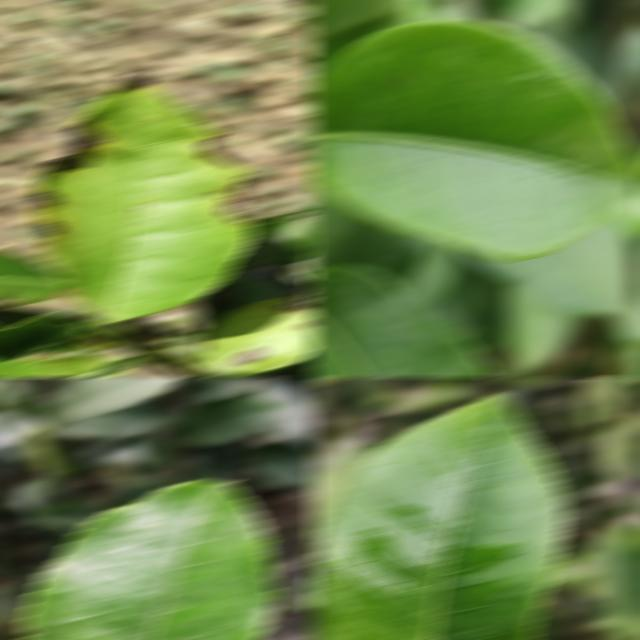Leaf: (309, 21, 639, 258), (313, 394, 567, 640), (29, 72, 253, 326), (19, 481, 279, 640), (458, 219, 640, 338), (309, 266, 496, 376), (194, 213, 315, 329), (196, 286, 317, 376), (45, 378, 187, 427), (309, 0, 409, 61), (589, 525, 640, 640), (178, 395, 280, 446), (254, 380, 317, 449), (52, 401, 167, 438), (0, 250, 68, 306), (595, 424, 637, 506), (246, 441, 317, 487), (48, 356, 134, 376), (290, 570, 317, 611)
